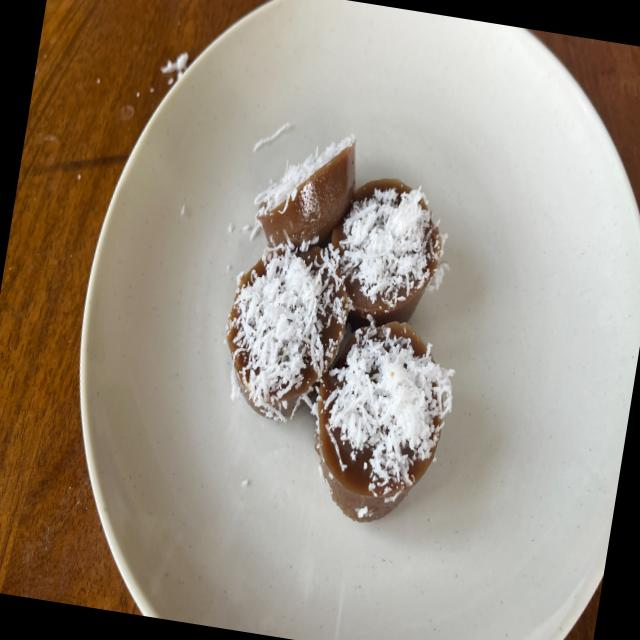Kuih lompang: (313, 321, 454, 522), (226, 243, 351, 420), (332, 179, 443, 328), (254, 134, 356, 246)
